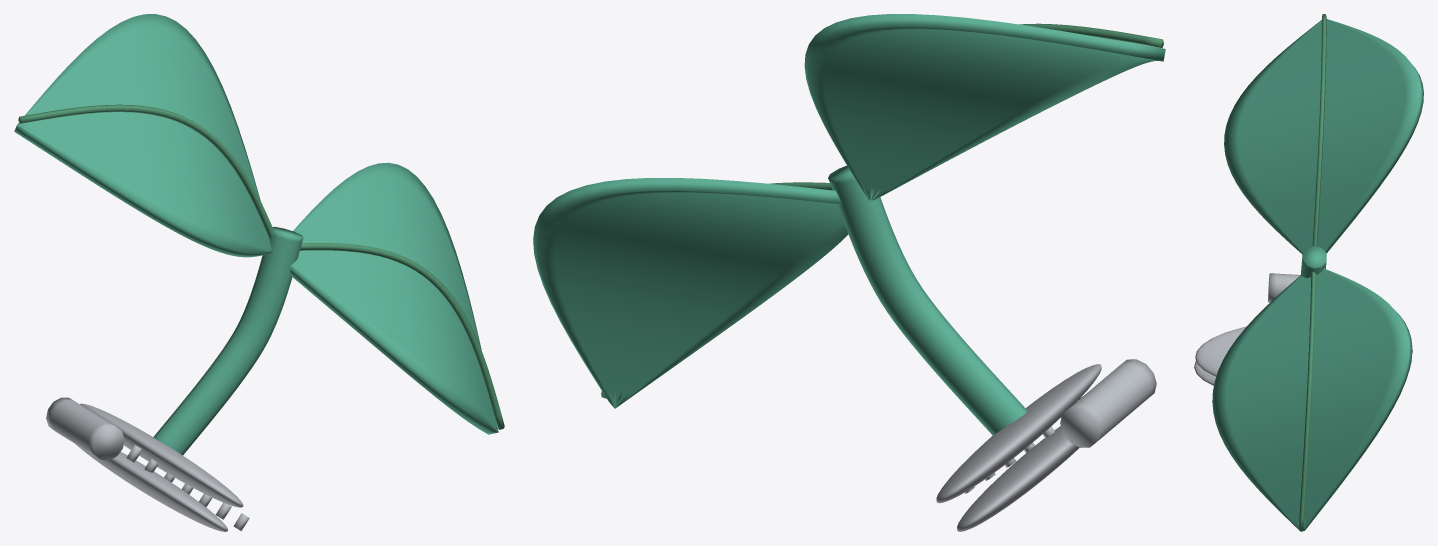
The model's file is Masculine-sidepart-headband259-sprout.glb.
3 renders of one model, left to right at view 1: azimuth 30°, elevation 25°; view 2: azimuth 150°, elevation 25°; view 3: azimuth 270°, elevation 25°, orthographic. The views are drawn at different scales.
Visible parts, largest first — view 1: 226 extra / Accessory / mint226, 226 extra / Sprout / clip silver235, 226 extra / Sprout / leaf vein235; view 2: 226 extra / Accessory / mint226, 226 extra / Sprout / clip silver235, 226 extra / Sprout / leaf vein235; view 3: 226 extra / Accessory / mint226, 226 extra / Sprout / leaf vein235, 226 extra / Sprout / clip silver235.
Part boxes in pixels (x1,y1,x2,y2): 226 extra / Accessory / mint226: (14, 14, 498, 455); 226 extra / Sprout / clip silver235: (46, 397, 249, 531); 226 extra / Sprout / leaf vein235: (18, 104, 504, 429); 226 extra / Accessory / mint226: (533, 14, 1165, 435); 226 extra / Sprout / clip silver235: (936, 359, 1156, 531); 226 extra / Sprout / leaf vein235: (601, 23, 1163, 398); 226 extra / Accessory / mint226: (1212, 19, 1423, 531); 226 extra / Sprout / leaf vein235: (1298, 14, 1326, 530); 226 extra / Sprout / clip silver235: (1194, 273, 1412, 385).
Size of the model in its own units: 0.2105 by 0.1933 by 0.1094.
